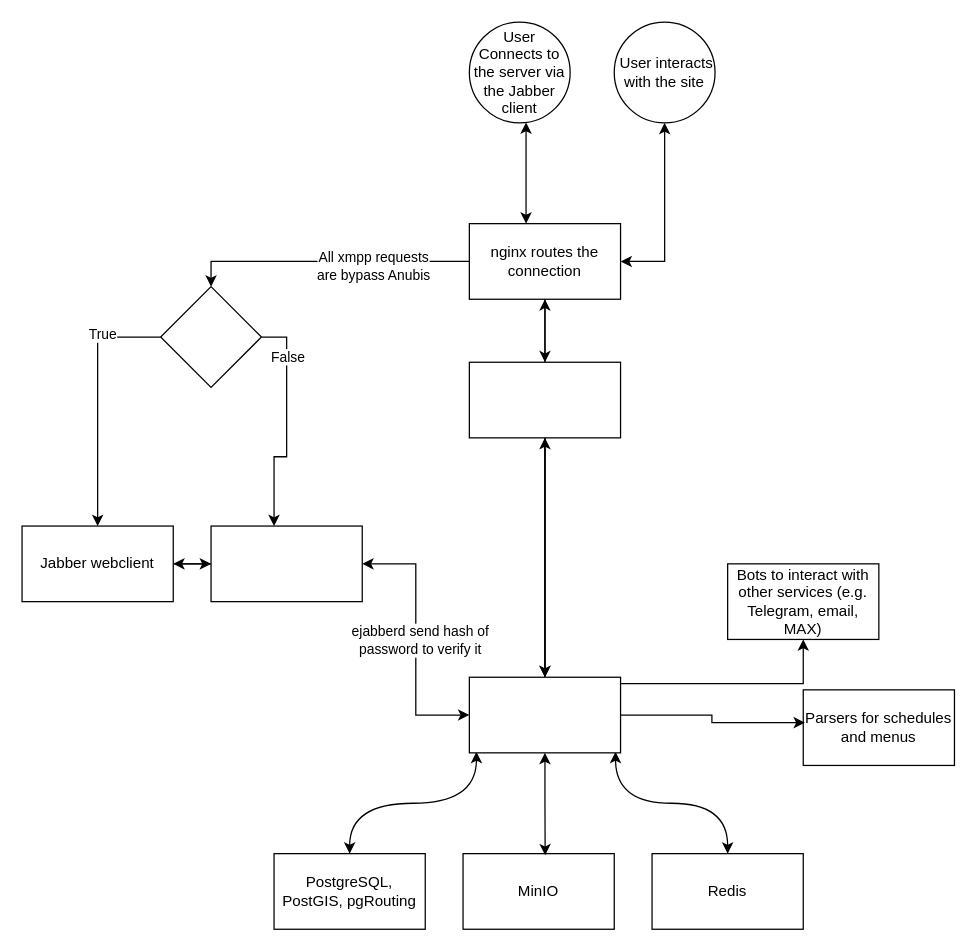
This 977x951 diagram has some shape labels left out. The centre of each missing label's shape, as x and y in pixels:
"Anubis PoW security" belongs at (544,399).
"Backend" belongs at (544,714).
"ejabberd" belongs at (286,563).
"Request for website?" belongs at (210,336).
